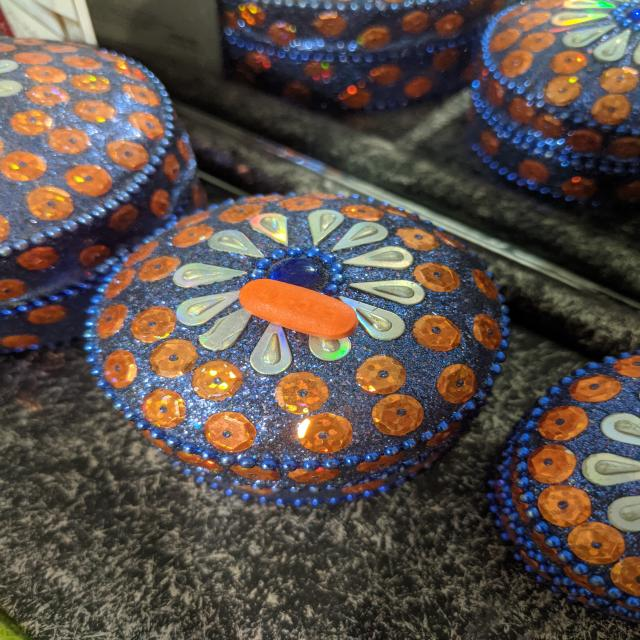non-organic waste: (238, 277, 359, 341)
